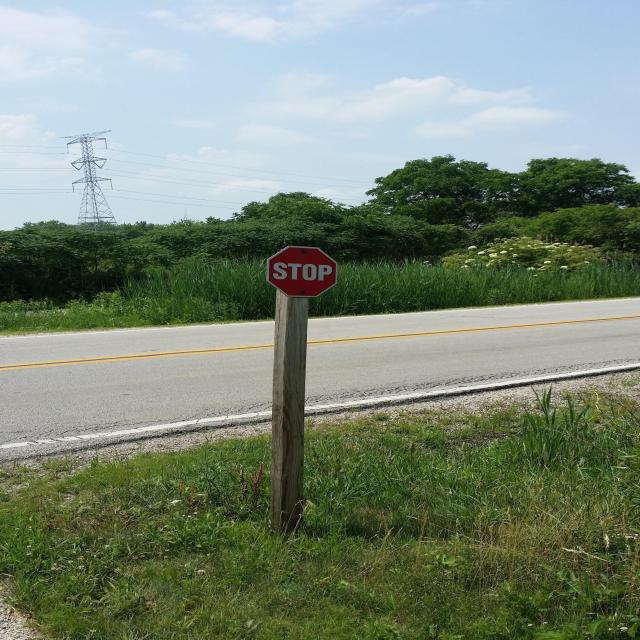stop: (266, 244, 342, 299)
